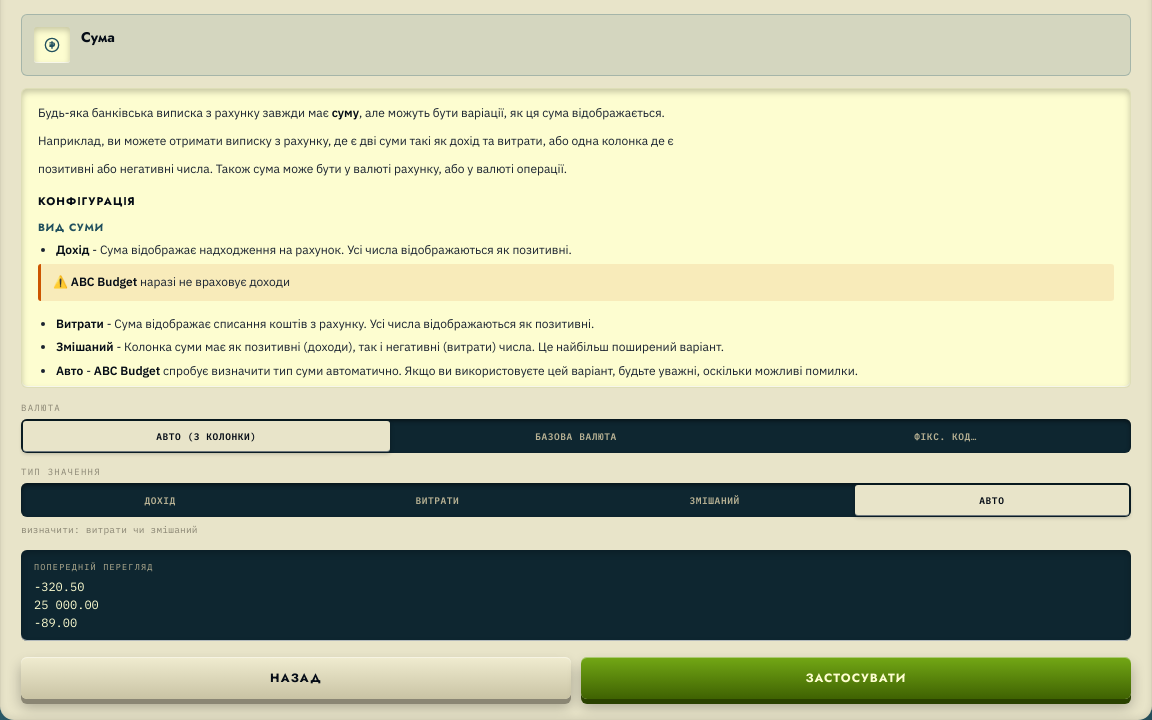
Scenario: ConfigWizard (2-step «More» configurator) › Back (step 2) returns to step 1
(page scrolled)
Click the button "Назад" at (296, 678), box [21, 657, 571, 699]
(page scrolled)
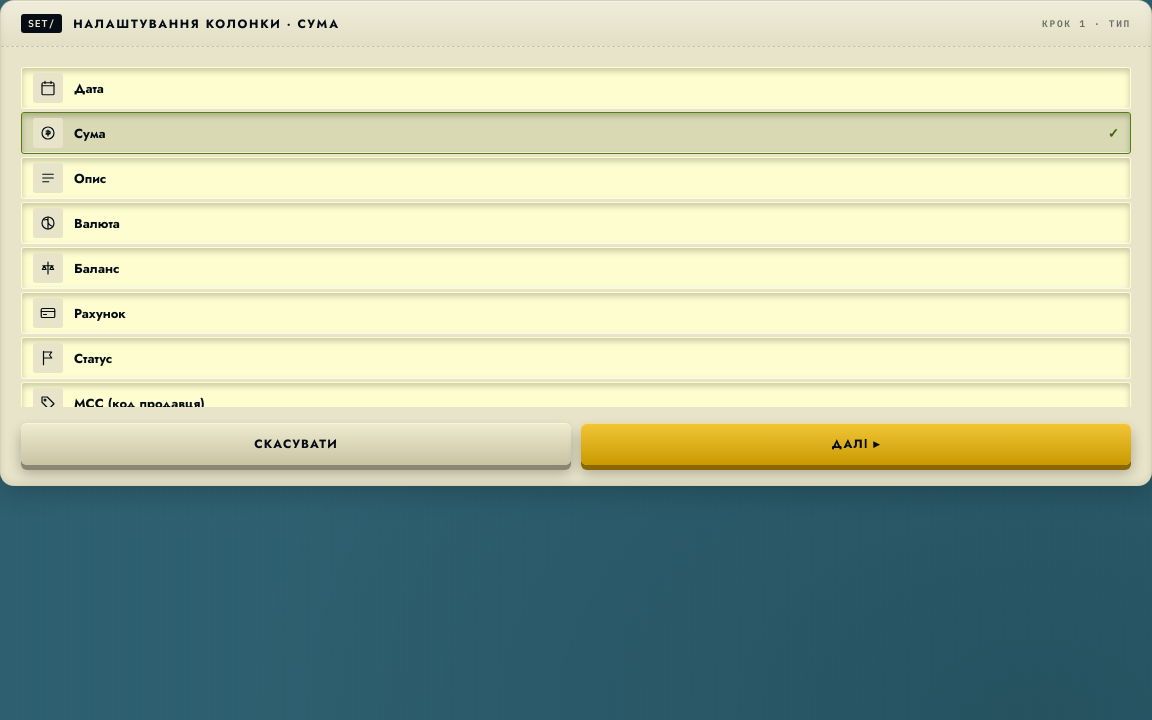
expect the element with class "cfg-types" is shown: met, box [21, 67, 1131, 407]
